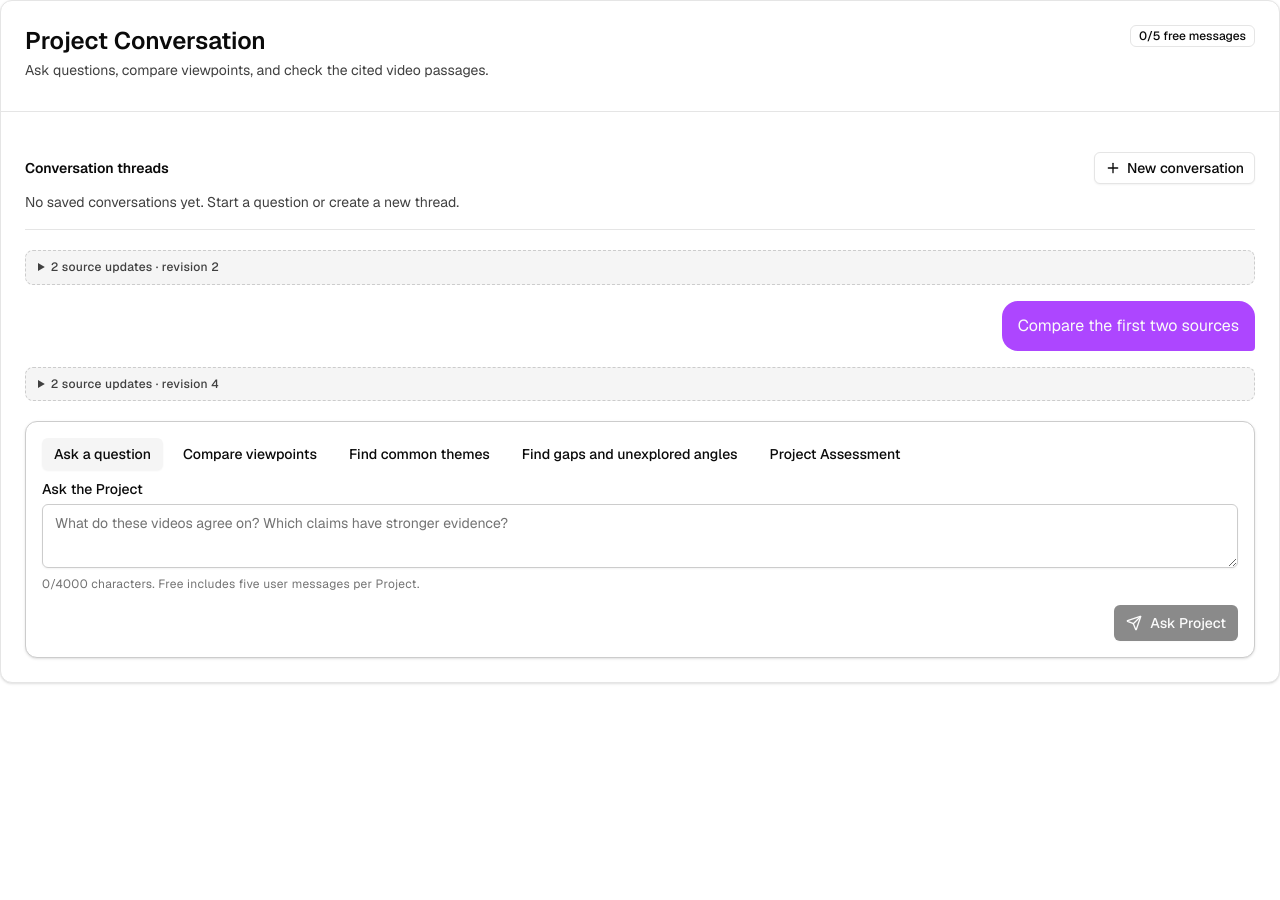
Test: ProjectConversation › collapses consecutive source activity without merging across a conversation turn
What coordinates should you click on to do the following:
click the heading "2 source updates · revision 2"
I would click on:
 (135, 267)
Its box is [51,259,219,275].
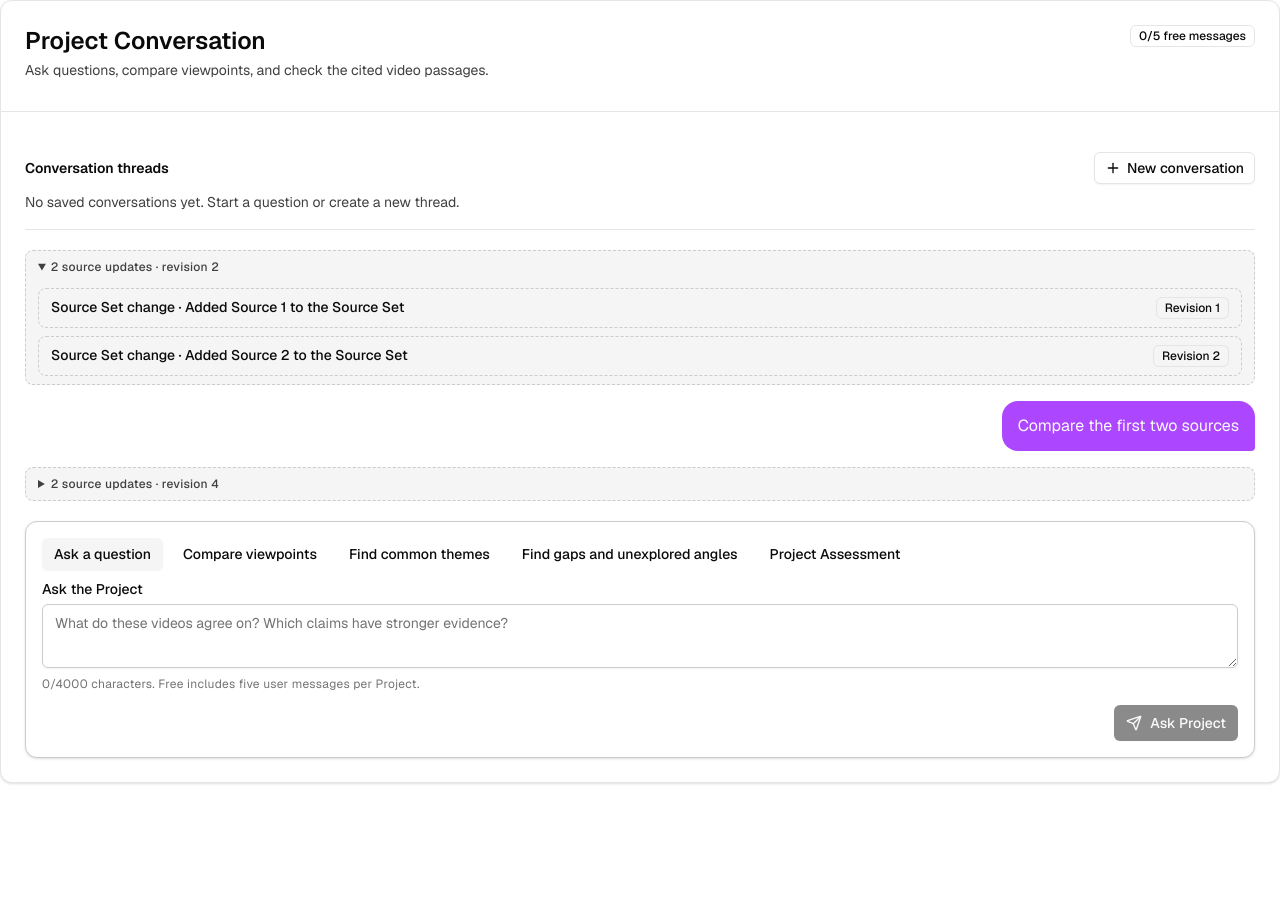
Expected: the text "Source Set change · Added Source 1 to the Source Set" is shown, [51,298,404,318]
Expected: the text "Source Set change · Added Source 2 to the Source Set" is shown, [51,346,408,366]
